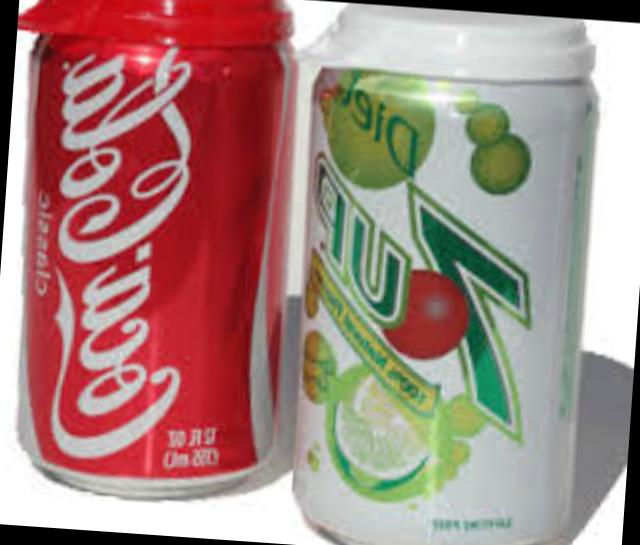metal: (294, 2, 597, 545), (17, 0, 295, 494)
